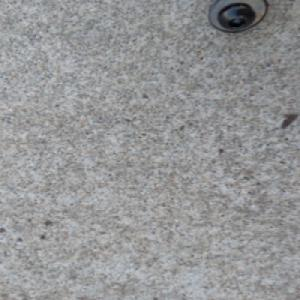BoltWasher: (205, 0, 269, 34)
